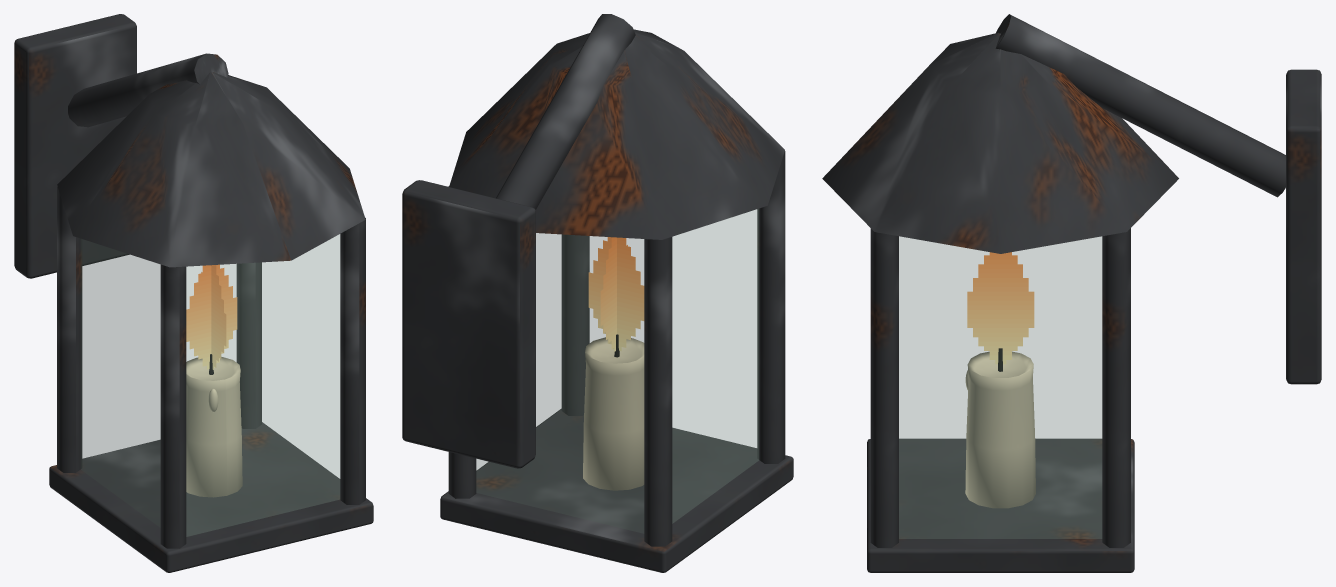
The model's file is wallLantern.glb.
3 renders of one model, left to right at view 1: azimuth 30°, elevation 25°; view 2: azimuth 150°, elevation 25°; view 3: azimuth 270°, elevation 25°, orthographic. The views are drawn at different scales.
Visible parts, largest first — view 1: wallLantern; view 2: wallLantern; view 3: wallLantern.
Boxes of the visible parts, left/top/right/bottom form: wallLantern: left=14, top=14, right=373, bottom=572; wallLantern: left=402, top=14, right=793, bottom=572; wallLantern: left=822, top=14, right=1321, bottom=572.
Size of the model in its own units: 0.2002 by 0.3105 by 0.2801.
Materials: 5 (3 with a texture image).
